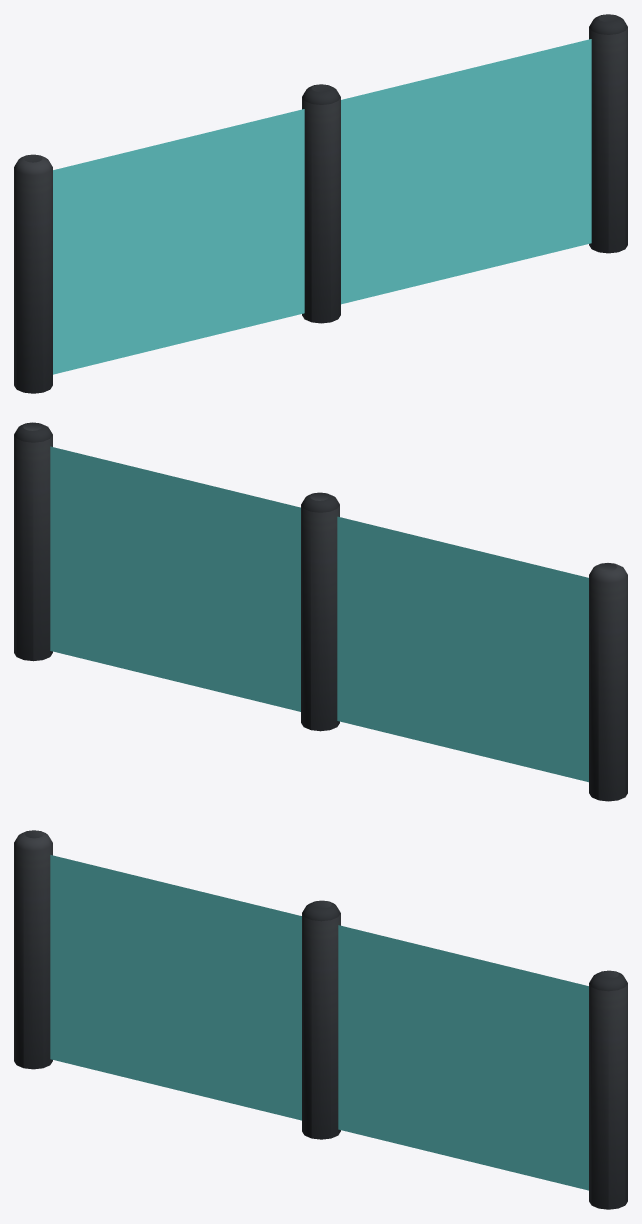
The model's file is Gate2beyaz.fbx.
The picture shows the model from 3 angles, top to bottom: view 1: azimuth 30°, elevation 25°; view 2: azimuth 150°, elevation 25°; view 3: azimuth 330°, elevation 25°; orthographic projection.
Parts seen in each view (by area): view 1: gate math place, gate poles; view 2: gate math place, gate poles; view 3: gate math place, gate poles.
Part boxes in pixels (bbox=[...]): gate math place: bbox=[53, 39, 591, 374]; gate poles: bbox=[14, 14, 627, 393]; gate math place: bbox=[50, 446, 588, 782]; gate poles: bbox=[14, 422, 627, 801]; gate math place: bbox=[50, 855, 588, 1190]; gate poles: bbox=[14, 830, 627, 1209].
Bounding box in the file's own units: 602 × 214 × 33.31.
